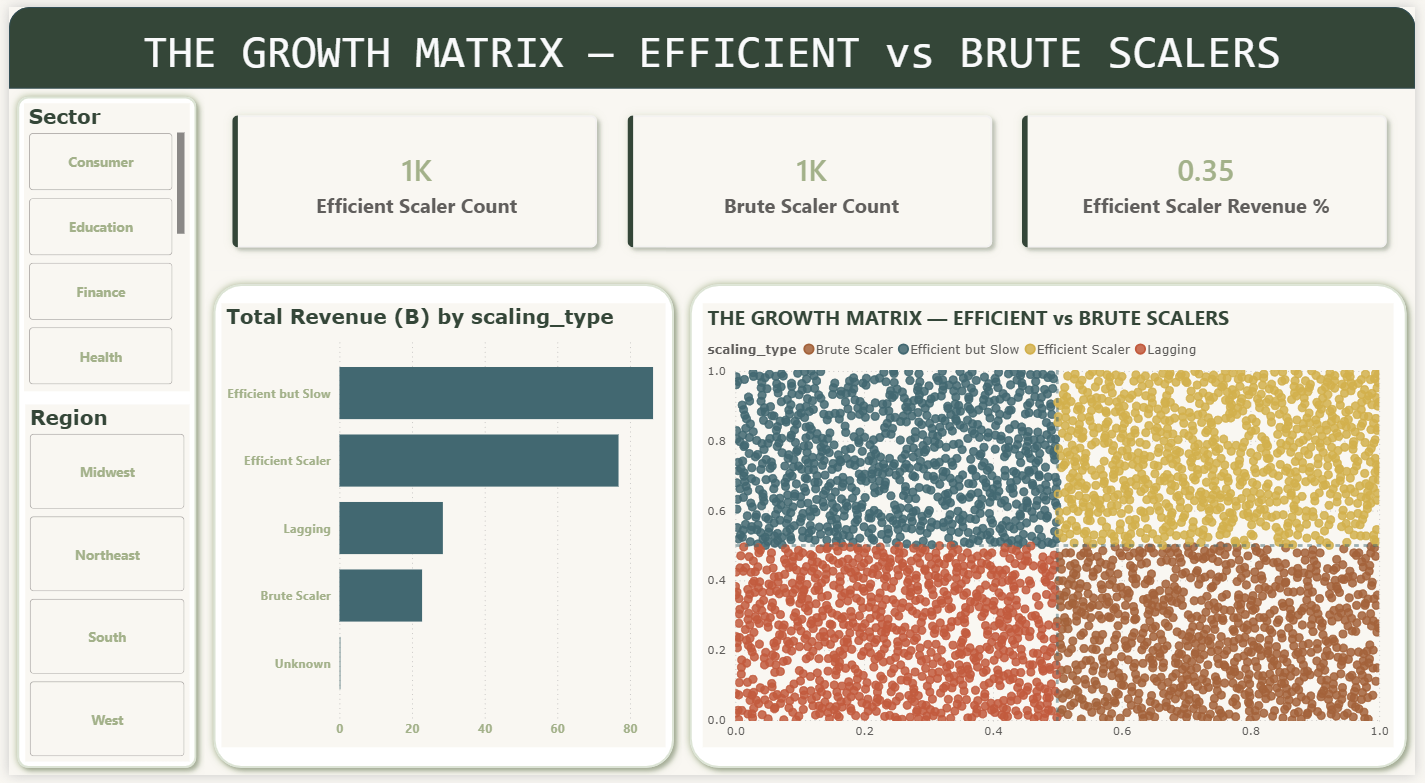

What the dashboard file says about the page in this screenshot:
{"tool":"powerbi","page":{"name":"Page 2","canvas":[1500,820],"ordinal":1},"visuals":[{"type":"shape","box":[0,0,1500,87.1],"z":0},{"type":"textbox","box":[0,15,1500,71.7],"z":1000},{"type":"cardVisual","fields":{"Data":["inc5000_analytics companies.Efficient Scaler Count","inc5000_analytics companies.Brute Scaler Count","inc5000_analytics companies.Efficient Scaler Revenue %"]},"box":[208.8,86.8,1291.2,200],"z":2000},{"type":"shape","box":[717.6,286.8,782.4,533.8],"z":3000},{"type":"scatterChart","title":"THE GROWTH MATRIX — EFFICIENT vs BRUTE SCALERS ","fields":{"X":["Sum(inc5000_analytics companies.growth_percentile)"],"Y":["Sum(inc5000_analytics companies.rpw_percentile)"],"Series":["inc5000_analytics companies.scaling_type"],"Category":["inc5000_analytics companies.name"]},"box":[739.7,316.2,736.8,473.5],"z":4000},{"type":"shape","box":[208.8,286.8,508.8,533.8],"z":5000},{"type":"clusteredBarChart","fields":{"Y":["inc5000_analytics companies.Total Revenue (B)"],"Category":["inc5000_analytics companies.scaling_type"]},"box":[226.5,316.2,473.5,473.5],"z":6000},{"type":"shape","box":[0,86.8,208.8,733.8],"z":7000},{"type":"advancedSlicerVisual","fields":{"Values":["inc5000_analytics companies.region"]},"box":[17.6,423.5,175,380.9],"z":8000},{"type":"advancedSlicerVisual","fields":{"Values":["inc5000_analytics companies.sector"]},"box":[16.2,102.9,176.5,307.4],"z":9000}]}

Visuals, with their boxes in screenshot pixels (x1, y1, x2, y2), scaled from the page's 1500x820 canvas onto the 1425x783 screenshot:
shape: bbox(0, 0, 1424, 83)
textbox: bbox(0, 14, 1424, 83)
cardVisual - inc5000_analytics companies.Efficient Scaler Count x inc5000_analytics companies.Brute Scaler Count: bbox(198, 83, 1424, 274)
shape: bbox(682, 274, 1424, 782)
"THE GROWTH MATRIX — EFFICIENT vs BRUTE SCALERS " scatterChart: bbox(703, 302, 1403, 754)
shape: bbox(198, 274, 682, 782)
clusteredBarChart - inc5000_analytics companies.Total Revenue (B) x inc5000_analytics companies.scaling_type: bbox(215, 302, 665, 754)
shape: bbox(0, 83, 198, 782)
advancedSlicerVisual - inc5000_analytics companies.region: bbox(17, 404, 183, 768)
advancedSlicerVisual - inc5000_analytics companies.sector: bbox(15, 98, 183, 392)
